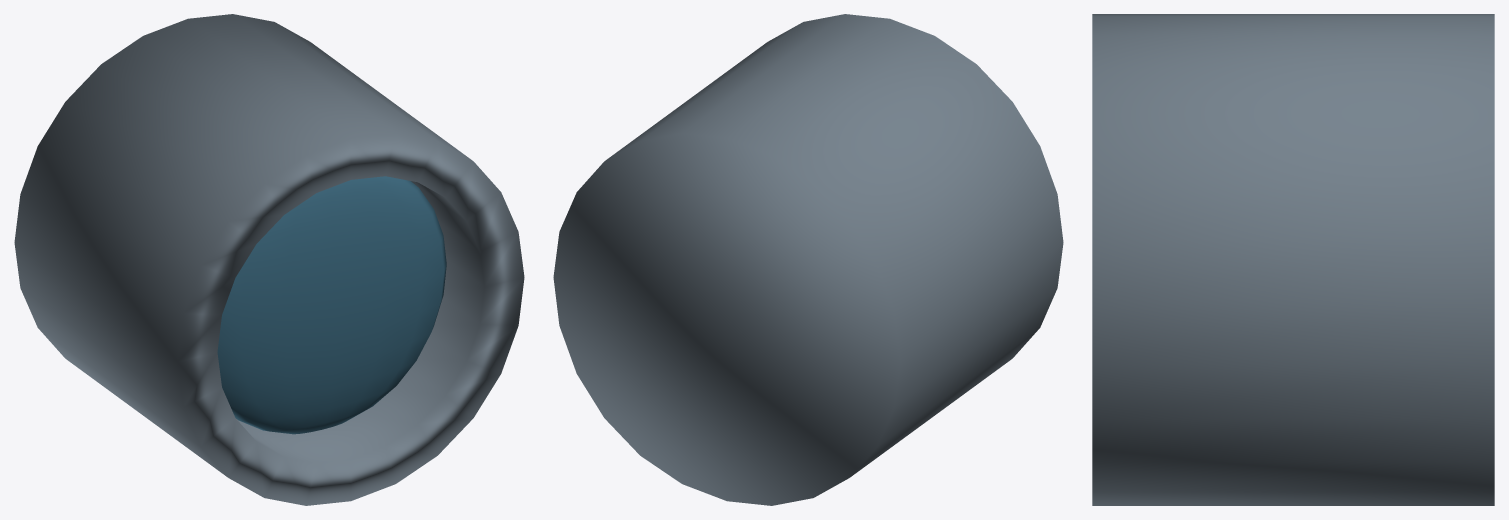
Rendered from curiosity_mast.deployment.azimuth.head.mastcam_34.glb.
3 views of the same model, side by side, from view 1: azimuth 30°, elevation 25°; view 2: azimuth 150°, elevation 25°; view 3: azimuth 270°, elevation 25° (orthographic). The views are drawn at different scales.
Visible parts, largest first — view 1: curiosity_mast.deployment.azimuth.head.mastcam_34.mesh_Machi, curiosity_mast.deployment.azimuth.head.mastcam_34.lens.mesh_; view 2: curiosity_mast.deployment.azimuth.head.mastcam_34.mesh_Machi; view 3: curiosity_mast.deployment.azimuth.head.mastcam_34.mesh_Machi.
Boxes of the visible parts, x1,y1,x2,y2 form: curiosity_mast.deployment.azimuth.head.mastcam_34.mesh_Machi: (14,14,524,505); curiosity_mast.deployment.azimuth.head.mastcam_34.lens.mesh_: (217,176,446,434); curiosity_mast.deployment.azimuth.head.mastcam_34.mesh_Machi: (553,14,1063,505); curiosity_mast.deployment.azimuth.head.mastcam_34.mesh_Machi: (1092,14,1494,505).
Size of the model in its own units: 0.07 by 0.07 by 0.057.
